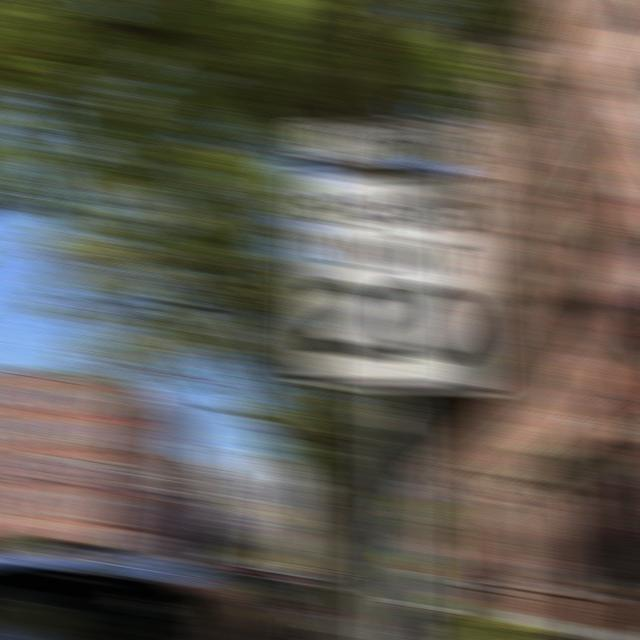speedLimit20: (306, 170, 482, 381)
